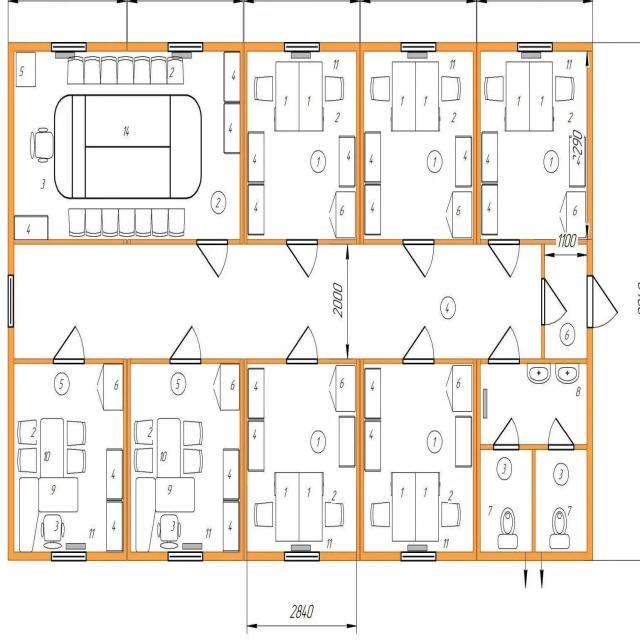Bathrooms: (481, 364, 587, 444), (481, 450, 531, 551), (536, 451, 586, 552)
Corridors: (15, 245, 541, 358), (545, 245, 587, 359)
Doors: (586, 275, 620, 330), (488, 323, 521, 366), (197, 237, 229, 280), (53, 324, 86, 365), (286, 324, 318, 366), (540, 278, 568, 326), (286, 240, 319, 280), (170, 325, 202, 366), (488, 239, 520, 279), (403, 325, 435, 365), (404, 239, 435, 280), (547, 417, 576, 451), (493, 417, 520, 450)
LBwalls: (436, 328, 593, 561), (7, 327, 51, 561), (7, 42, 51, 275), (552, 42, 593, 276), (86, 551, 168, 562), (86, 42, 168, 52), (319, 551, 401, 561), (320, 42, 401, 51), (436, 42, 517, 51), (203, 552, 284, 561), (203, 43, 284, 51)
Offices: (15, 51, 239, 239), (364, 364, 473, 551), (131, 364, 240, 551), (14, 364, 123, 551), (248, 52, 356, 239), (364, 52, 472, 239), (248, 364, 356, 551), (481, 52, 587, 239)
Walls: (317, 51, 403, 245), (84, 358, 170, 552), (317, 358, 403, 551), (200, 359, 286, 551), (434, 359, 493, 552), (228, 51, 286, 245), (434, 51, 489, 244), (519, 444, 549, 553), (519, 324, 587, 364), (520, 239, 587, 278), (14, 239, 197, 245), (574, 444, 587, 451)
Windows: (51, 41, 86, 52), (167, 41, 202, 52), (284, 41, 319, 52), (401, 41, 436, 52), (518, 41, 553, 52), (401, 551, 436, 562), (52, 551, 87, 562), (284, 552, 319, 562), (168, 552, 203, 562), (8, 274, 14, 328)
